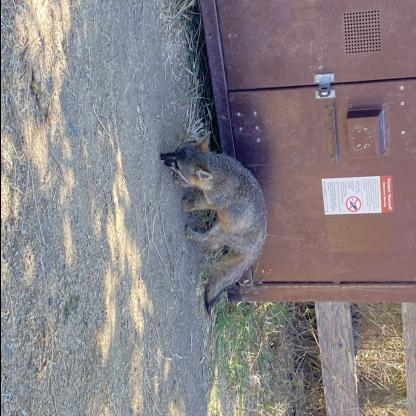zorro: (152, 124, 272, 334)
